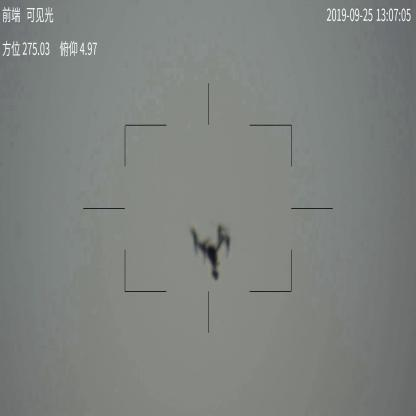uav: (184, 223, 232, 281)
